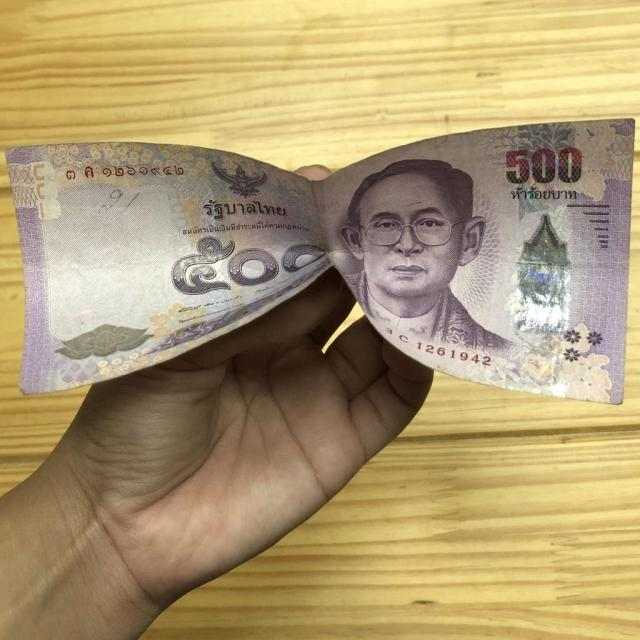THAI500: (6, 119, 634, 404)
